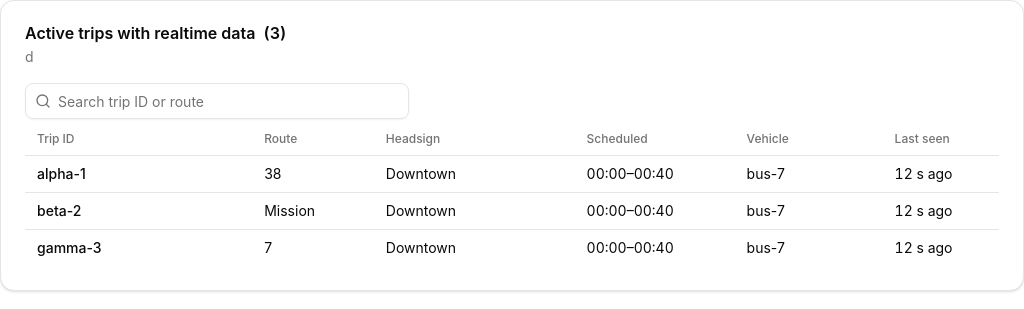
Test: TripTable search › keeps the count of the whole list and says how many match
Type "alpha" into the search field with placeholder "Search trip ID or route". click: coordinates (217, 101)
box: [25, 83, 409, 119]
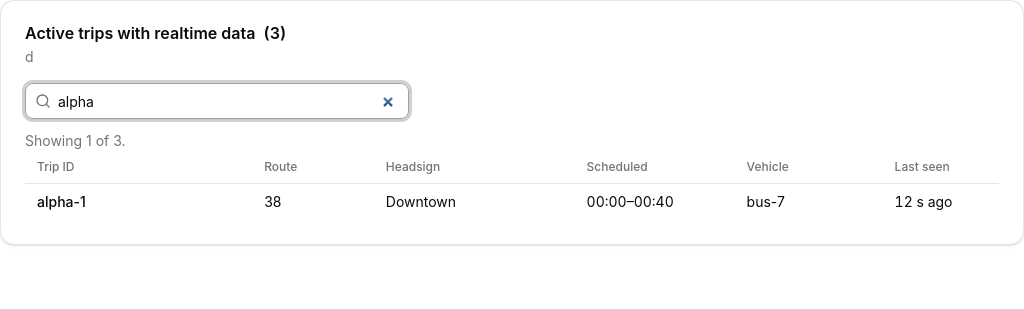
Expected: the heading shows "(3)", [25, 23, 286, 43]
Expected: the text "Showing 1 of 3." is shown, [25, 132, 126, 149]
